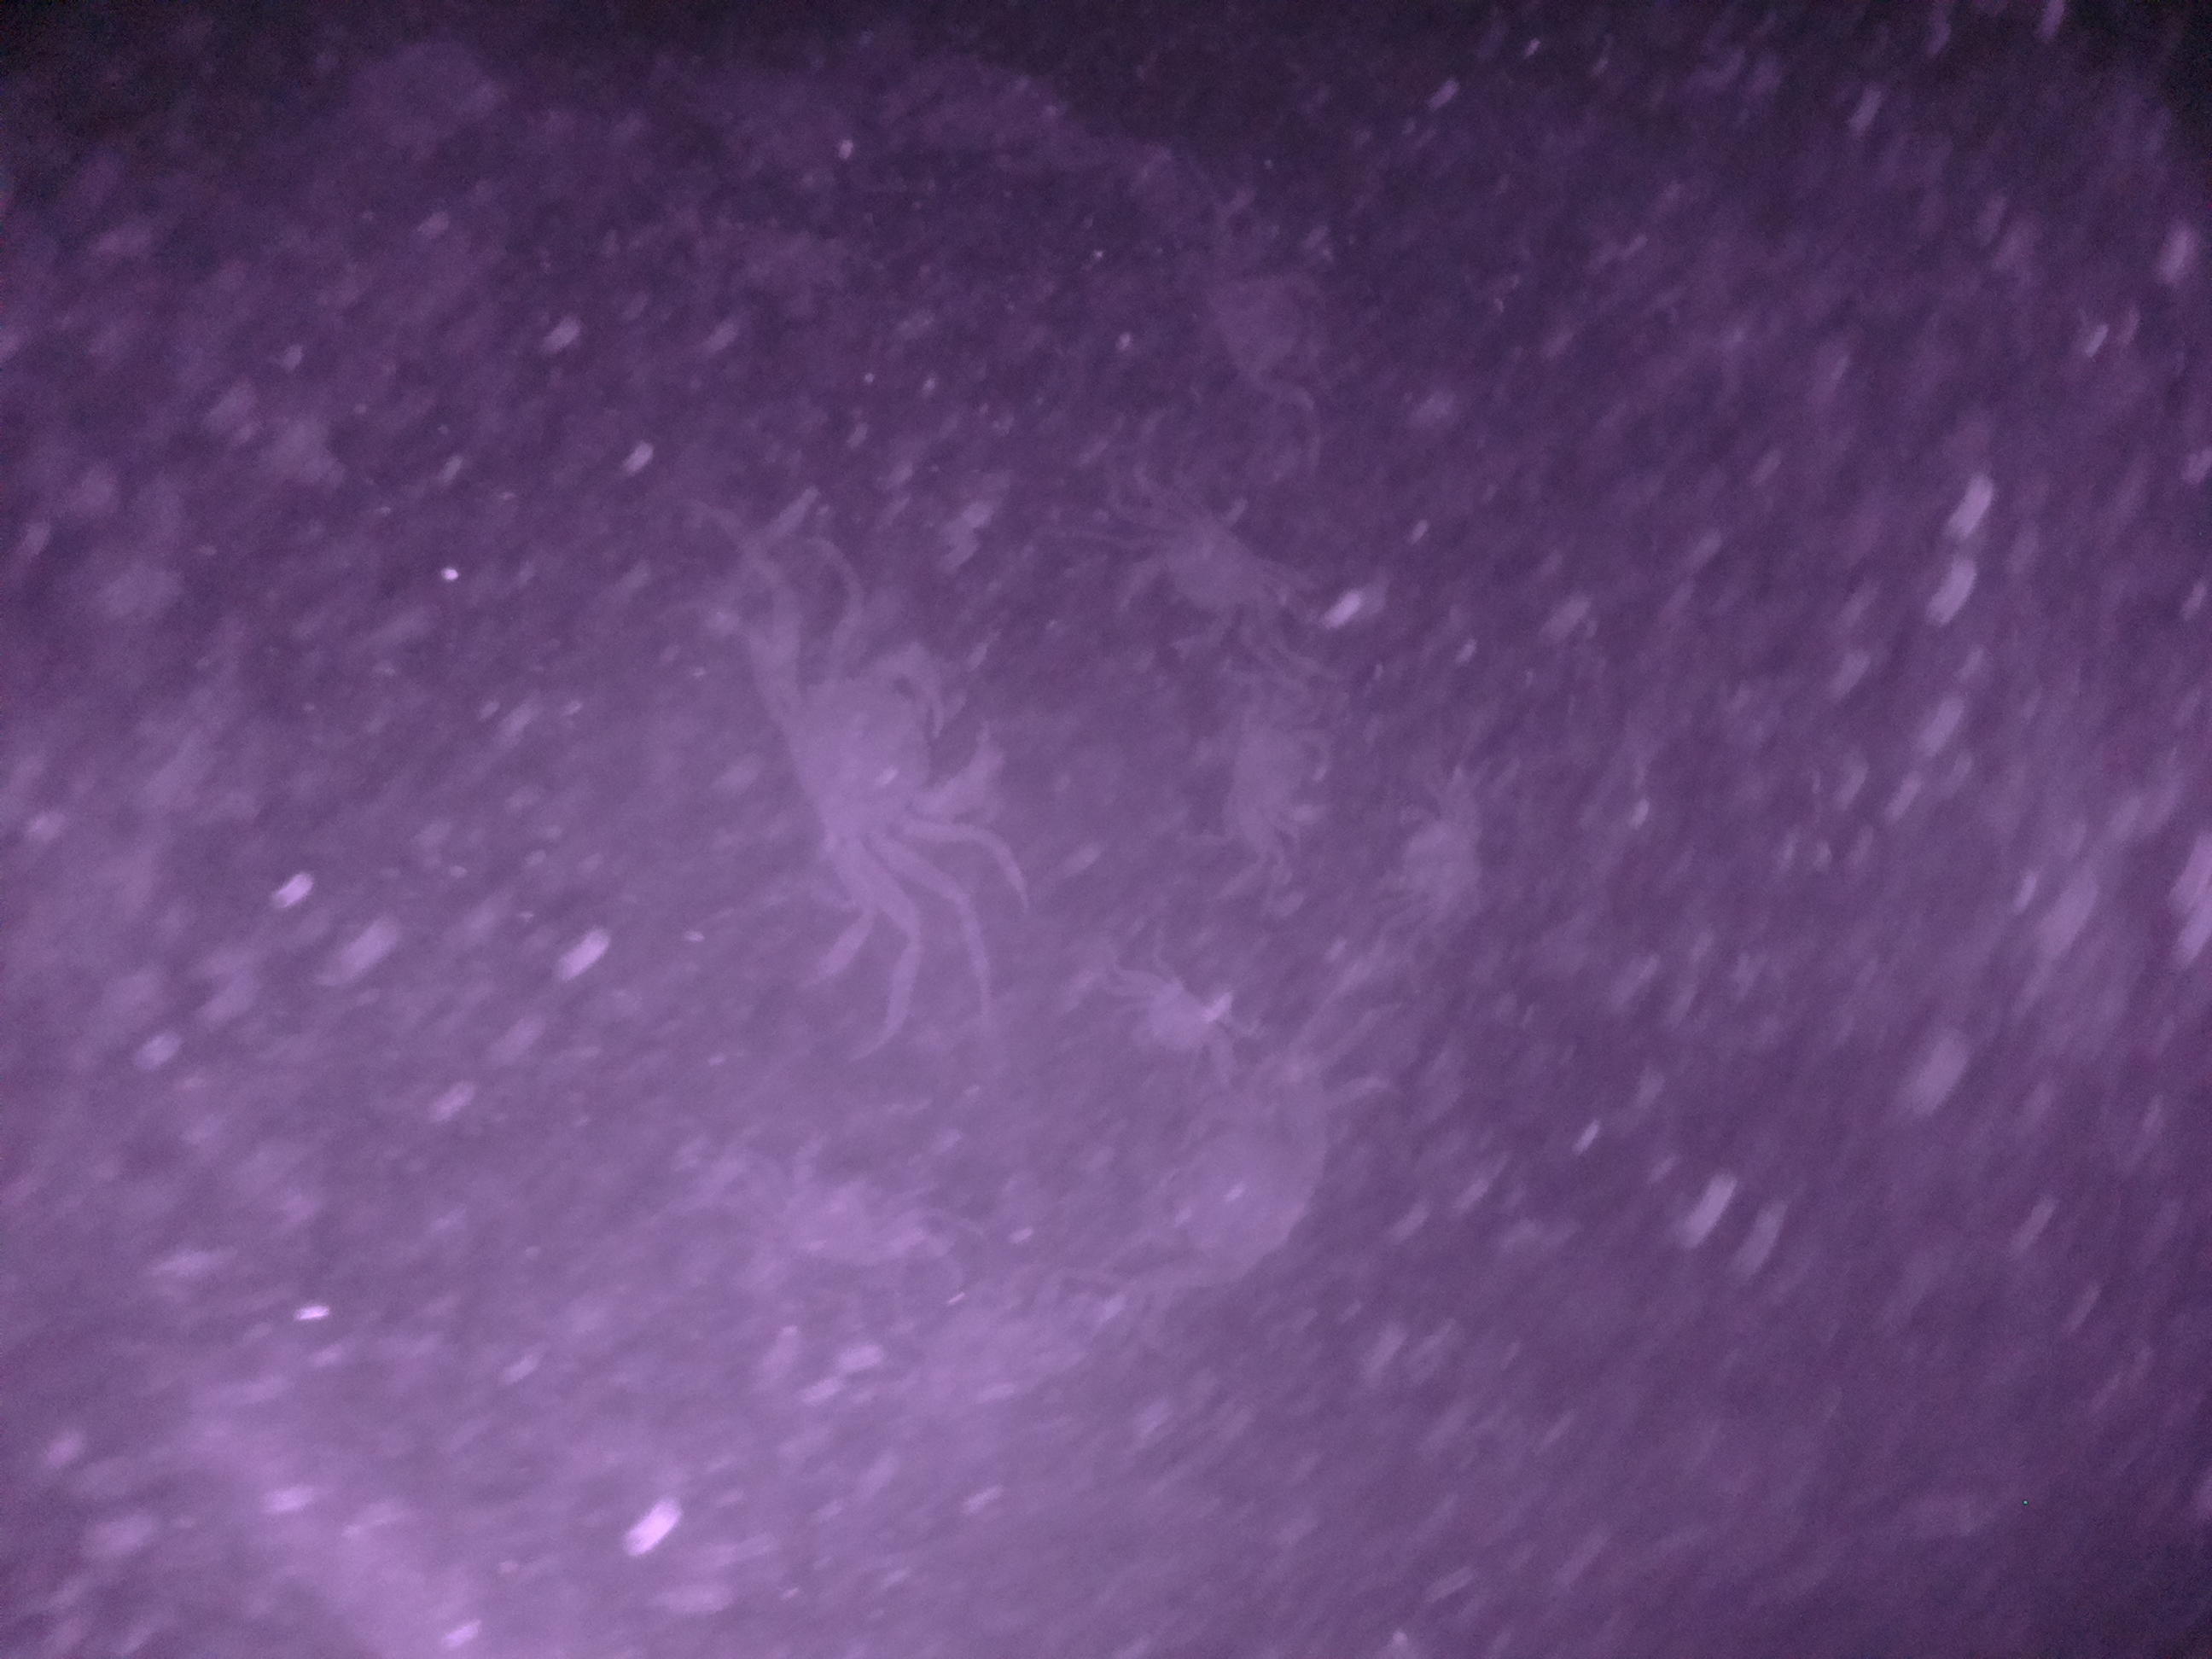Crab: (761, 606, 1019, 871), (1115, 469, 1313, 673), (1202, 695, 1355, 864), (1367, 763, 1500, 941), (1099, 958, 1261, 1080)
